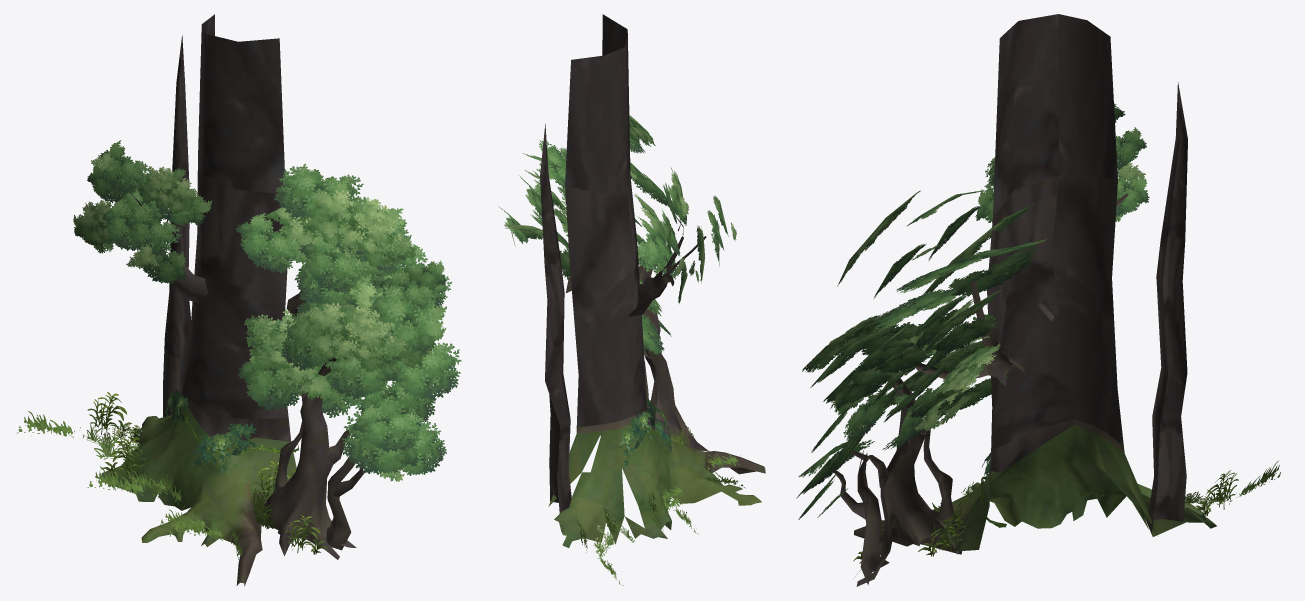
File: shu_24.FBX
3 views of the same model, side by side, from view 1: azimuth 30°, elevation 25°; view 2: azimuth 150°, elevation 25°; view 3: azimuth 270°, elevation 25° (orthographic). The views are drawn at different scales.
Parts seen in each view (by area): view 1: shu_09; view 2: shu_09; view 3: shu_09.
Boxes of the visible parts, x1,y1,x2,y2 form: shu_09: [16, 14, 461, 586]; shu_09: [498, 14, 765, 585]; shu_09: [796, 14, 1280, 586].
Bounding box in the file's own units: 5.72 × 8.96 × 7.29.
